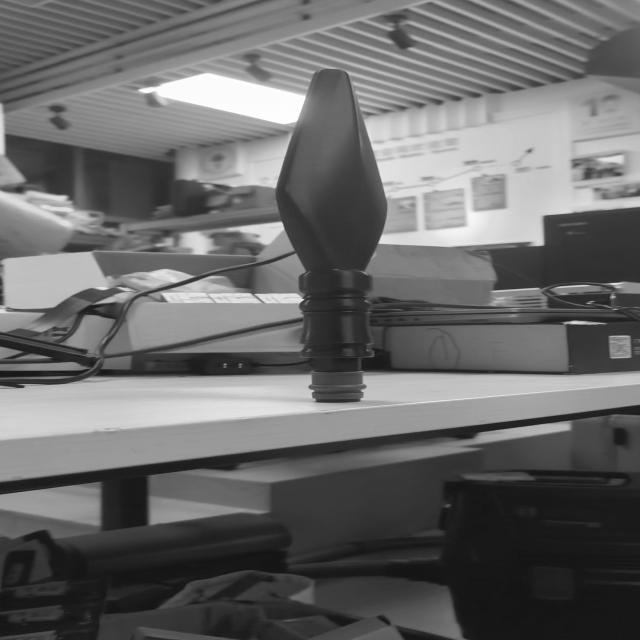base: (306, 368, 371, 408)
